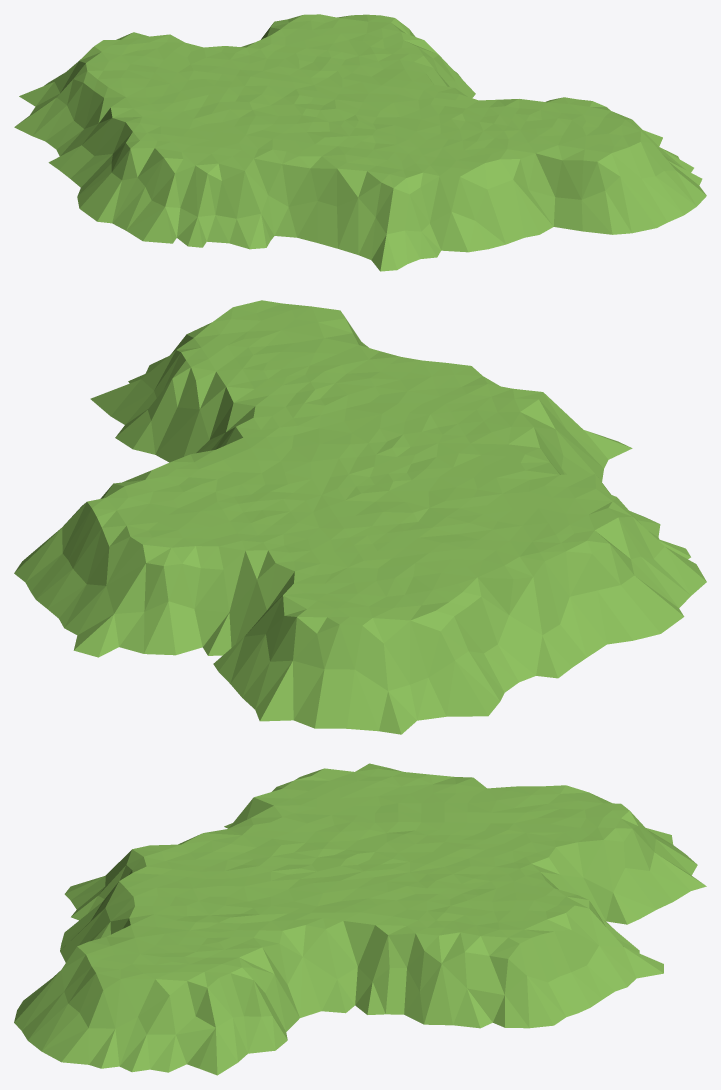
Rendered from MT_Island_L_a_10.fbx.
The picture shows the model from 3 angles, top to bottom: view 1: azimuth 30°, elevation 25°; view 2: azimuth 150°, elevation 25°; view 3: azimuth 270°, elevation 25°; orthographic projection. The views are drawn at different scales.
Parts seen in each view (by area): view 1: MT_Island_L_a_10; view 2: MT_Island_L_a_10; view 3: MT_Island_L_a_10.
Boxes of the visible parts, x1,y1,x2,y2 form: MT_Island_L_a_10: (14,14,706,271); MT_Island_L_a_10: (14,300,706,734); MT_Island_L_a_10: (14,763,706,1075).
Size of the model in its own units: 8883 by 929 by 9358.
